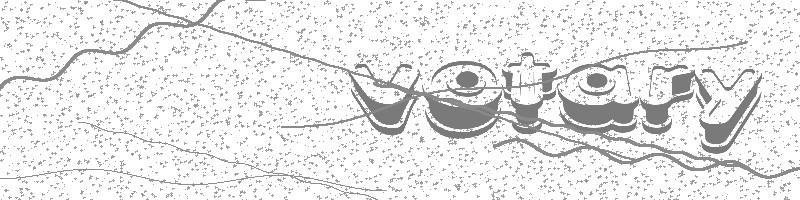a: (555, 63, 637, 133)
o: (420, 56, 503, 142)
r: (641, 64, 698, 142)
t: (498, 52, 560, 142)
v: (339, 56, 424, 149)
y: (691, 62, 765, 152)
